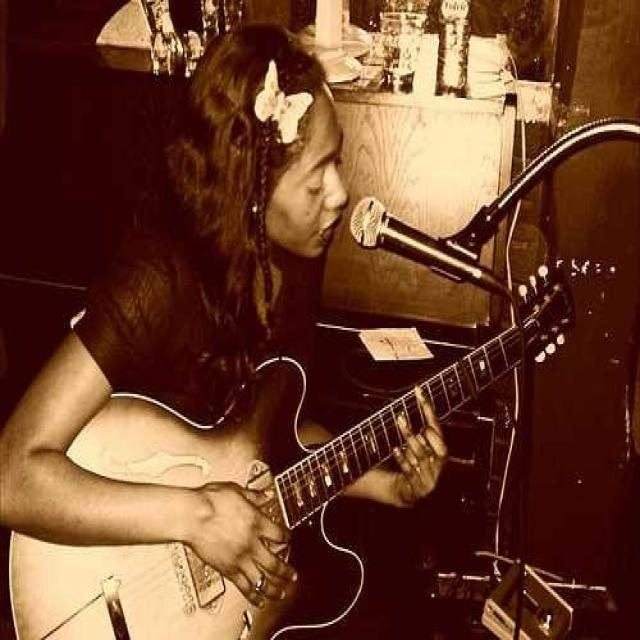microphone: (352, 198, 487, 288)
